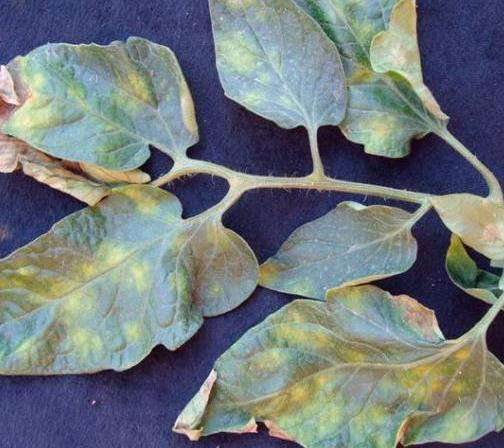Tomato mold leaf: (163, 281, 504, 448), (0, 188, 258, 387), (253, 0, 474, 156), (0, 26, 206, 170), (188, 0, 374, 135), (238, 203, 446, 301), (414, 183, 504, 267)
